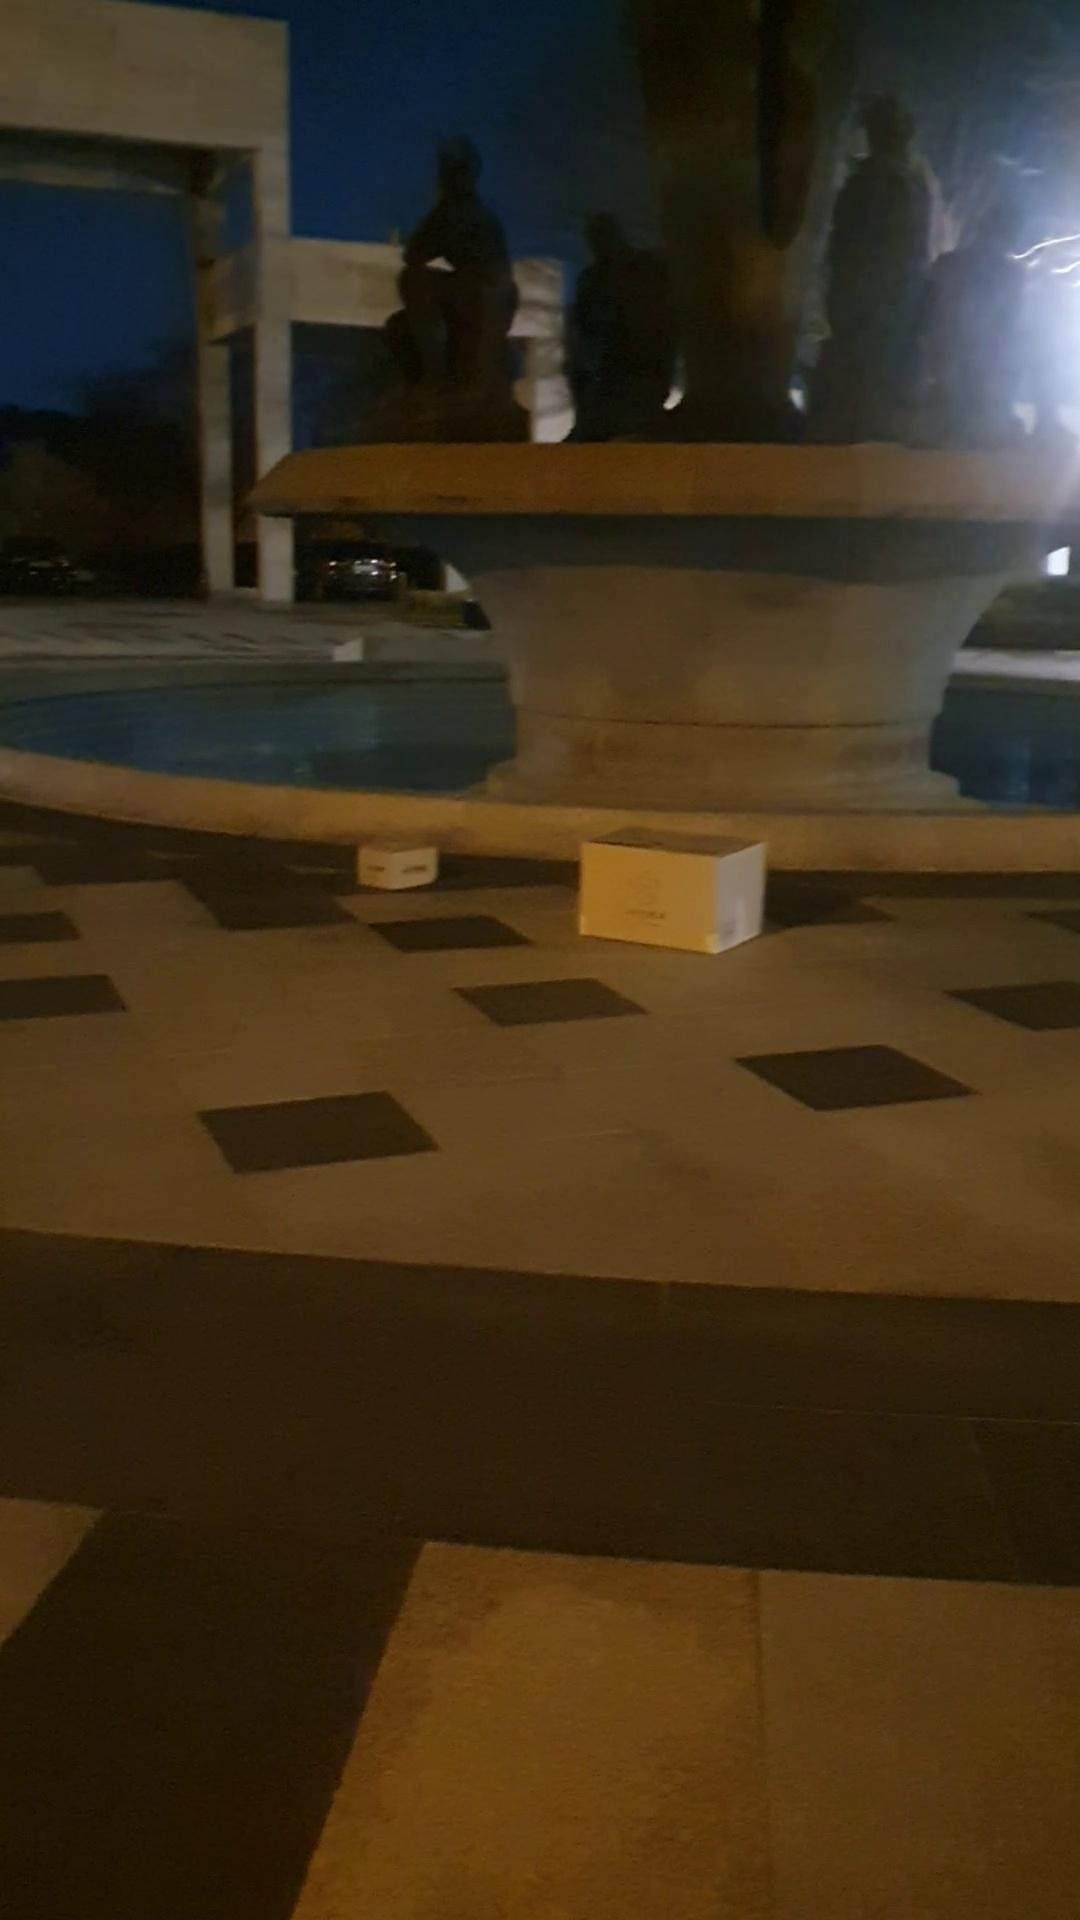Box: (566, 815, 782, 957), (351, 828, 429, 885)
